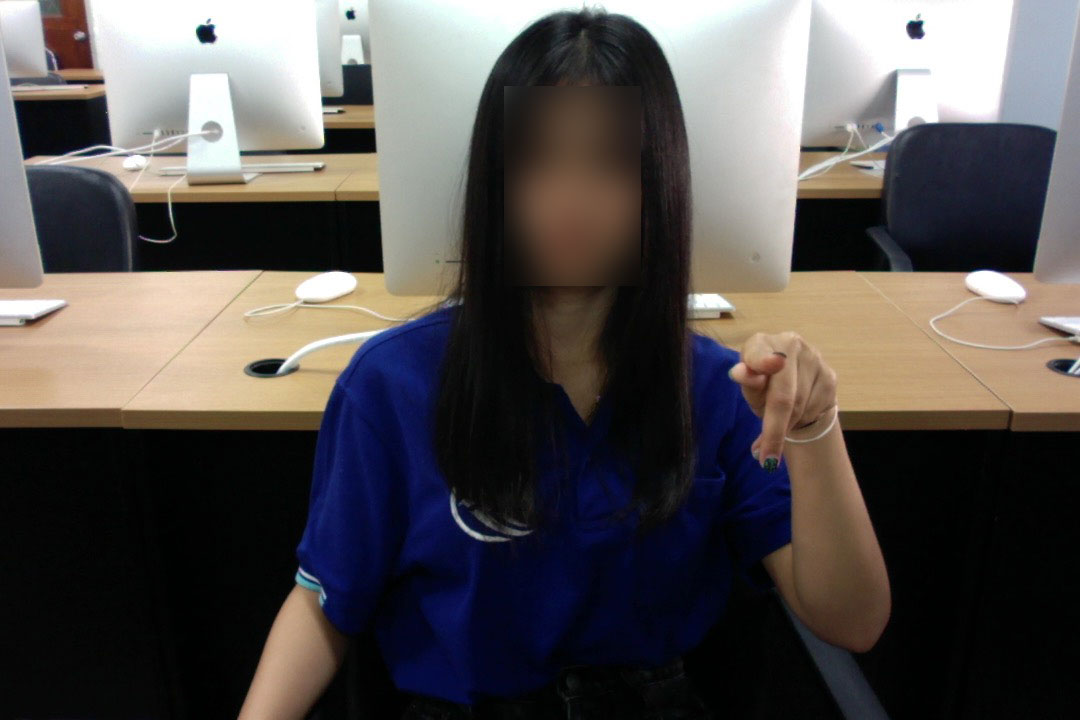por: (726, 323, 842, 476)
